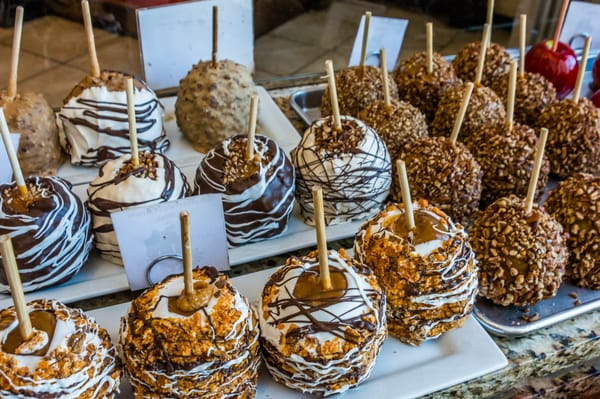sushi: (0, 298, 117, 397)
